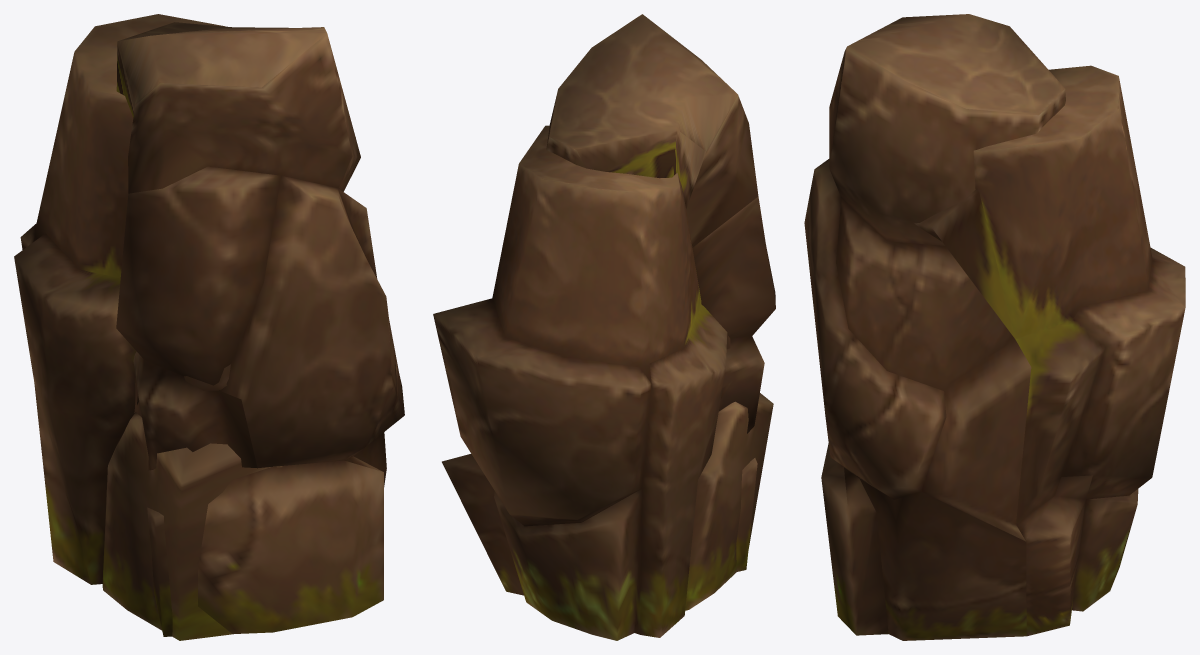
Rendered from oTerRockPillar01b.FBX.
3 views of the same model, side by side, from view 1: azimuth 30°, elevation 25°; view 2: azimuth 150°, elevation 25°; view 3: azimuth 270°, elevation 25° (orthographic). The views are drawn at different scales.
Visible parts, largest first — view 1: oTerRockPillar01b; view 2: oTerRockPillar01b; view 3: oTerRockPillar01b.
Boxes of the visible parts, x1,y1,x2,y2 form: oTerRockPillar01b: (14, 14, 404, 640); oTerRockPillar01b: (433, 14, 775, 640); oTerRockPillar01b: (804, 14, 1185, 640).
Bounding box in the file's own units: 16.44 × 19.17 × 31.11.
